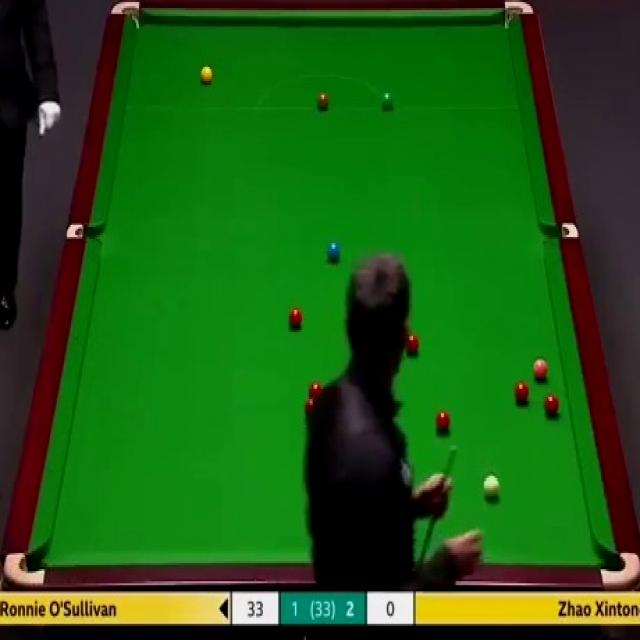blue-ball: (328, 242, 340, 264)
brown-ball: (318, 94, 330, 112)
green-ball: (382, 92, 393, 111)
pink-ball: (533, 357, 549, 383)
red-ball: (542, 392, 560, 418), (287, 304, 304, 330), (405, 331, 421, 356), (436, 409, 451, 434), (514, 383, 530, 404), (304, 398, 320, 418), (308, 383, 324, 402)
white-ball: (484, 472, 502, 501)
yellow-ball: (200, 66, 214, 88)
